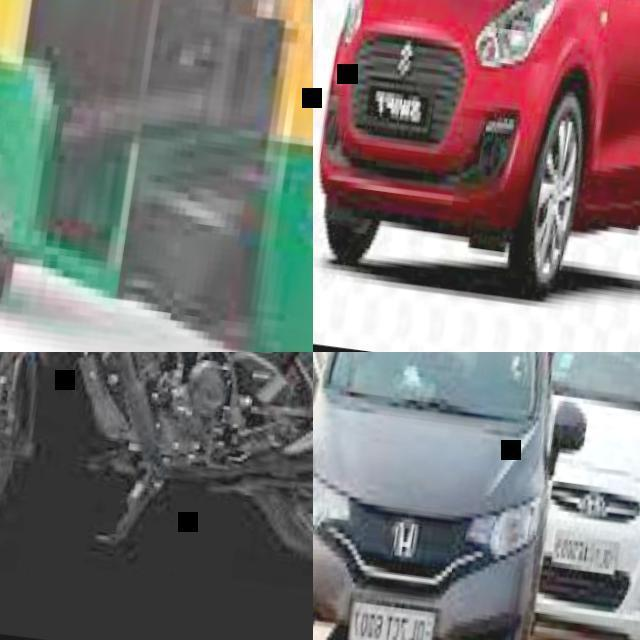car: (322, 0, 639, 301), (536, 344, 639, 639)
